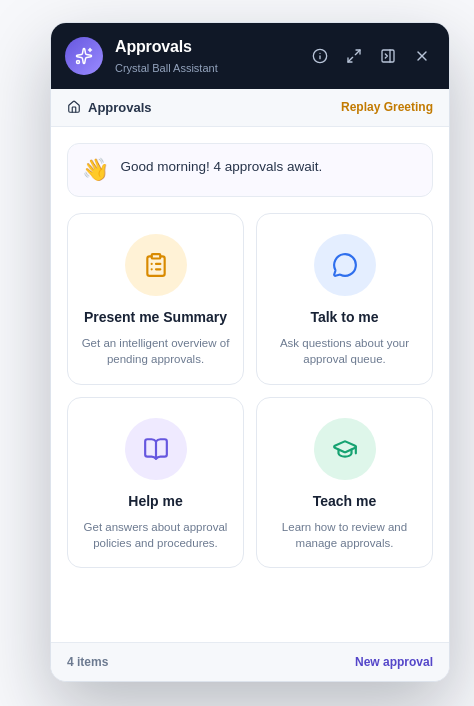
AssistantPanel › Help me › writes short source names as acronyms ("sla" becomes "SLA")
This screenshot has width=474, height=706.
Click the button "Help me Get answers about approval policies and procedures." at (156, 482), box [67,397,244,568]
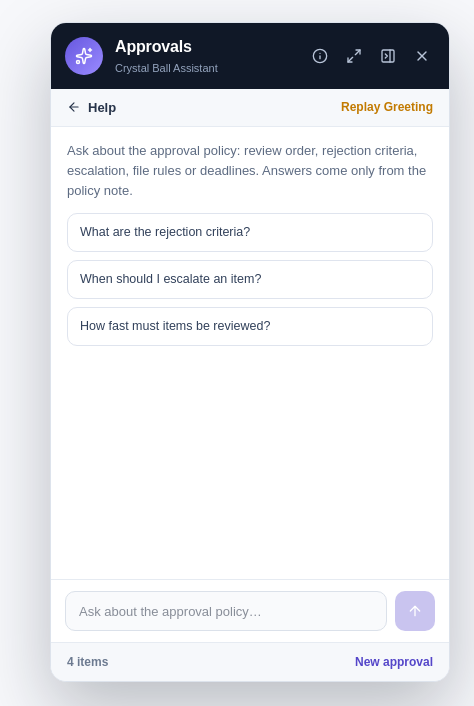
Type "How fast are reviews?" into the field named "your question" at (226, 611), box [65,591,387,631]
Then press Enter
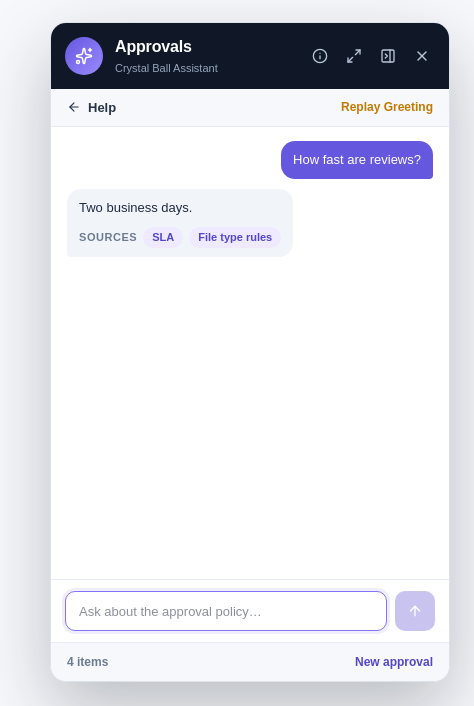
Check: the text "SLA" is shown, box [143,227,183,248]
Check: the text "File type rules" is shown, box [189,227,281,248]
